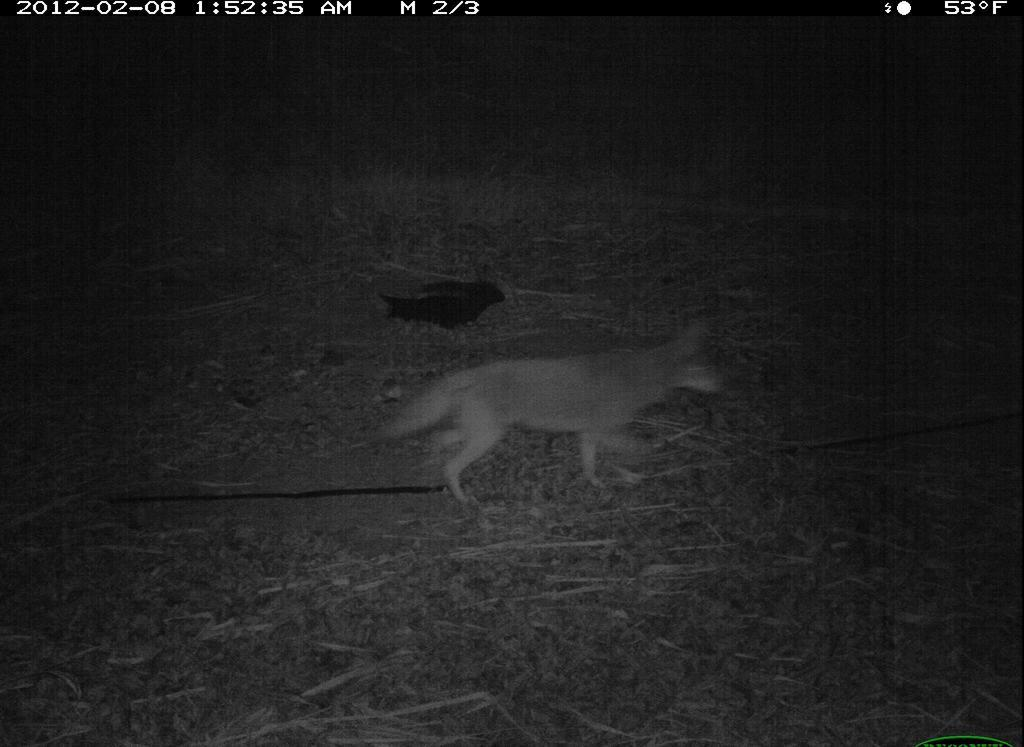coyote: (383, 310, 728, 501)
